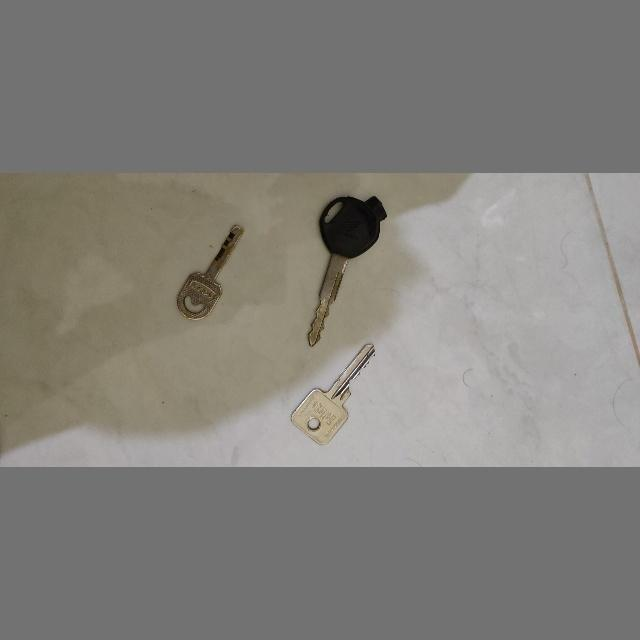Keys: (306, 193, 390, 347), (289, 341, 377, 447), (176, 223, 244, 325)
